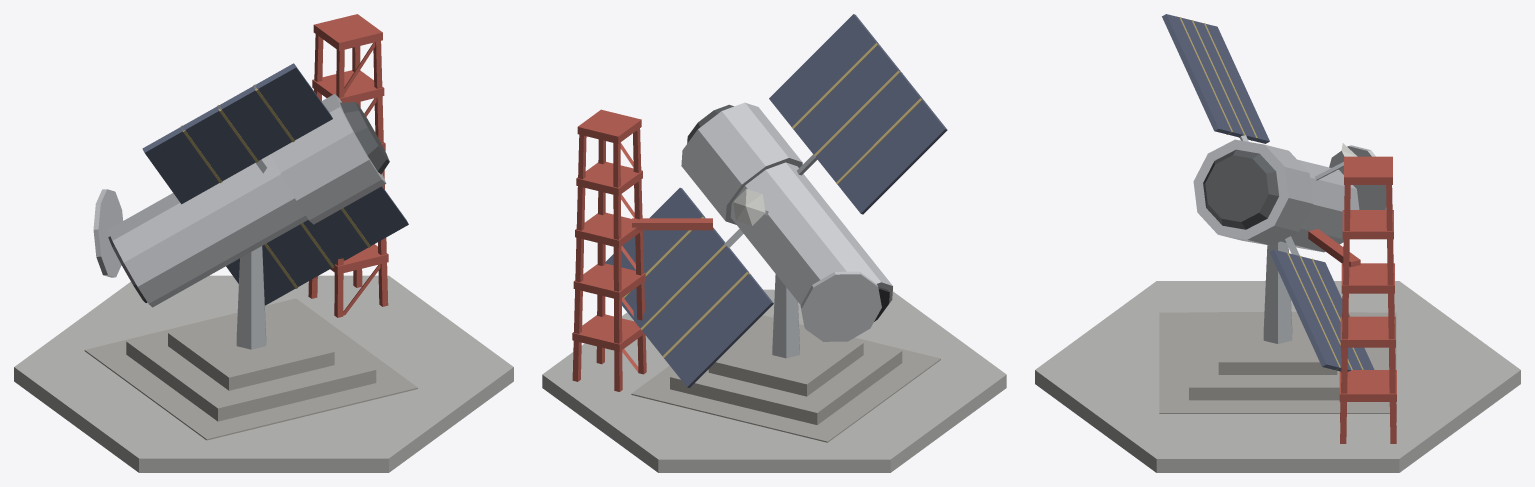
The model's file is hubble-space-telescope.glb.
The picture shows the model from 3 angles, left to right: view 1: azimuth 30°, elevation 25°; view 2: azimuth 150°, elevation 25°; view 3: azimuth 270°, elevation 25°; orthographic projection. The views are drawn at different scales.
Parts seen in each view (by area): view 1: LOD0; view 2: LOD0; view 3: LOD0.
Part boxes in pixels (bbox=[...]): LOD0: bbox=[14, 14, 513, 472]; LOD0: bbox=[542, 14, 1006, 472]; LOD0: bbox=[1035, 14, 1520, 472].
Size of what is drawn, in the model's own units: 1.49 by 1.39 by 1.72.
